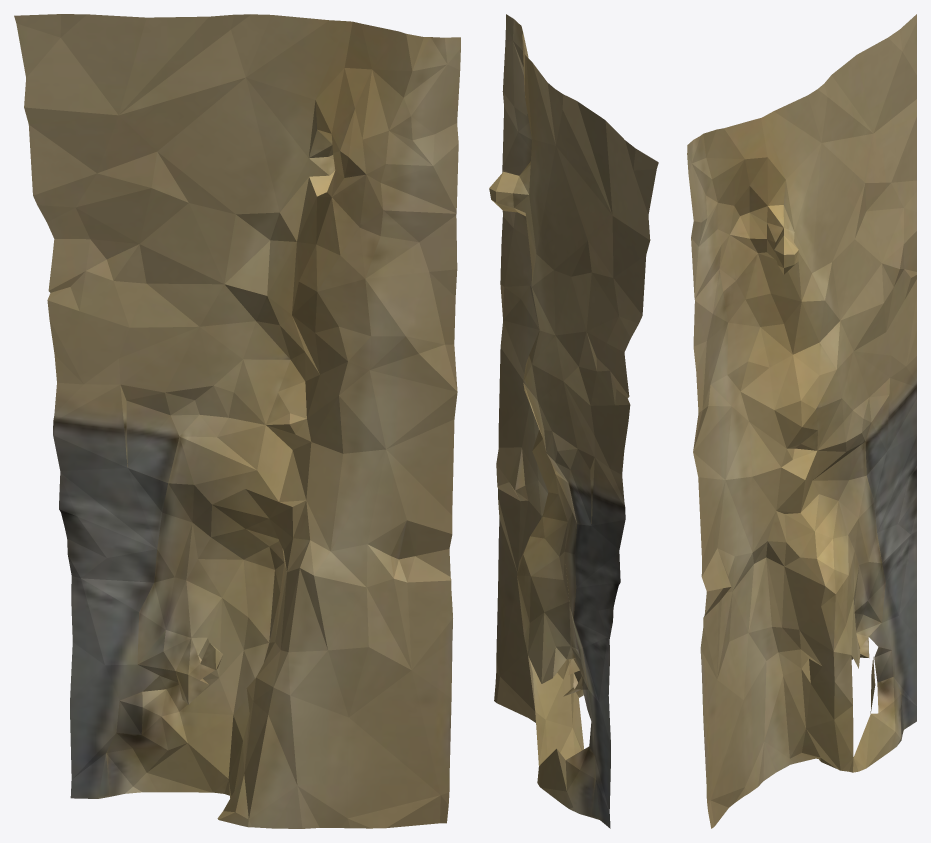
3 views of the same model, side by side, from view 1: azimuth 30°, elevation 25°; view 2: azimuth 150°, elevation 25°; view 3: azimuth 270°, elevation 25° (orthographic). The views are drawn at different scales.
Bounding box in the file's own units: 0.6891 × 1.67 × 0.51.
Materials: 2 (2 with a texture image).
